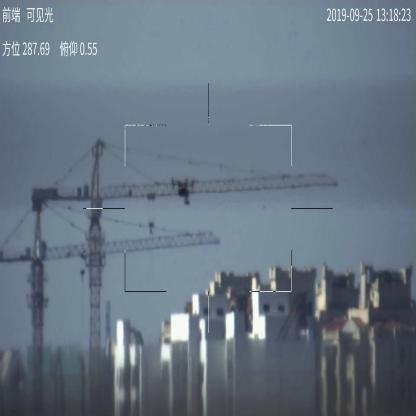uav: (171, 178, 196, 205)
